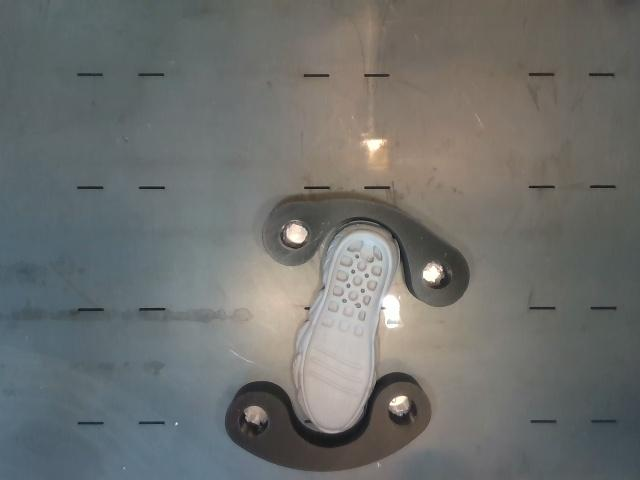shoes: (301, 231, 392, 432)
